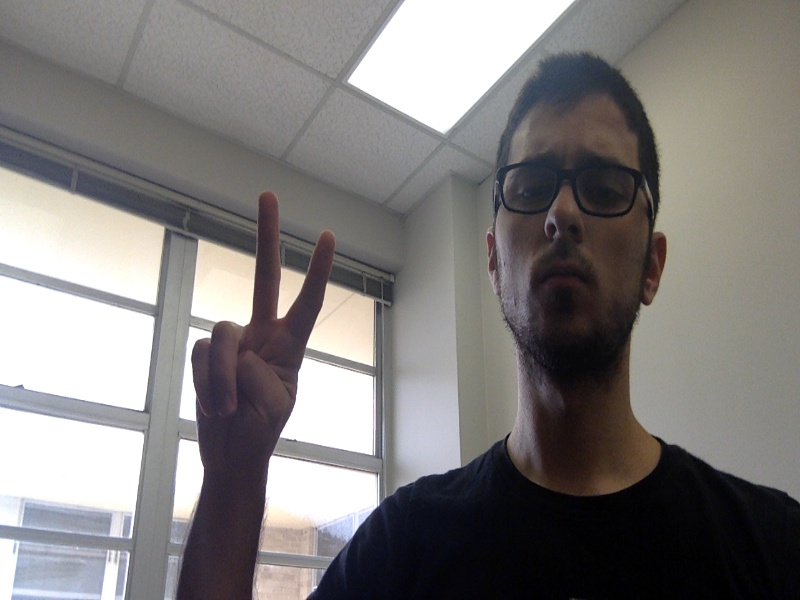2-hand: (195, 192, 336, 464)
